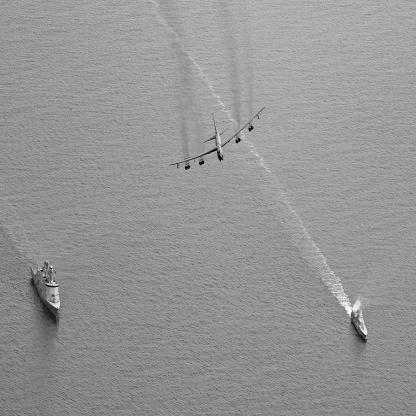B52: (170, 106, 267, 172)
